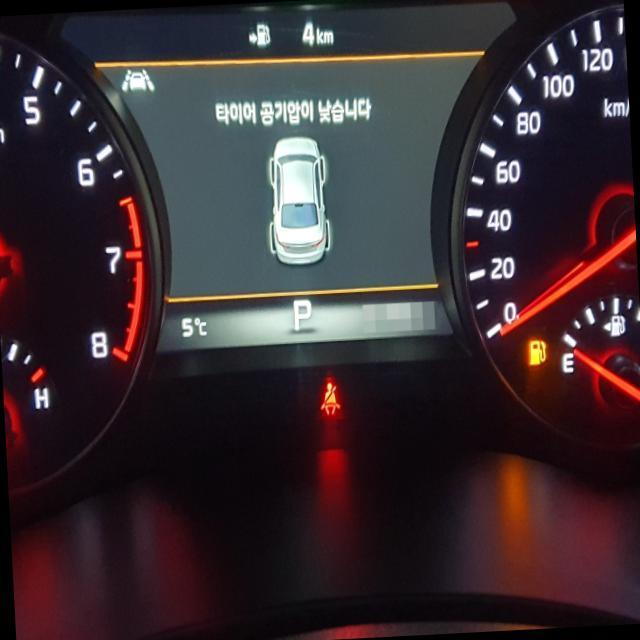Low fuel level: (527, 338, 547, 367)
